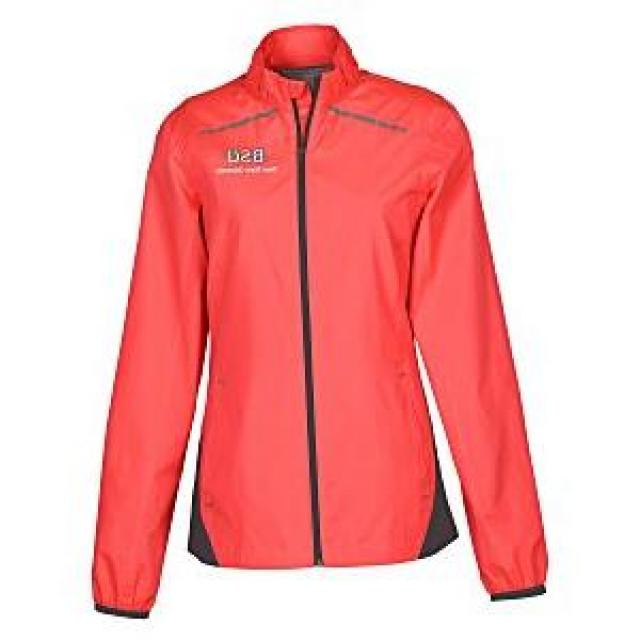Reflective-Jacket: (11, 45, 602, 612)
